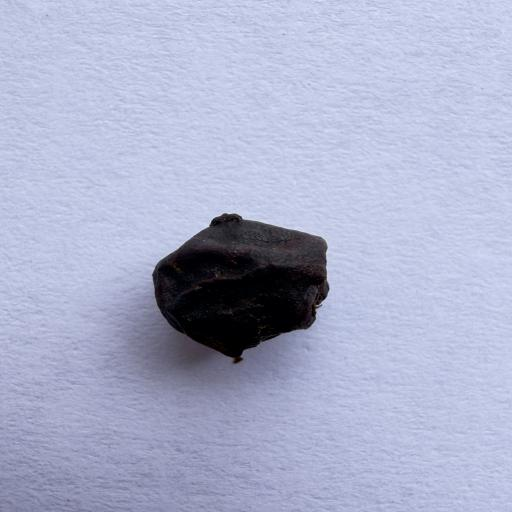Black_pepper: (71, 158, 414, 394)
